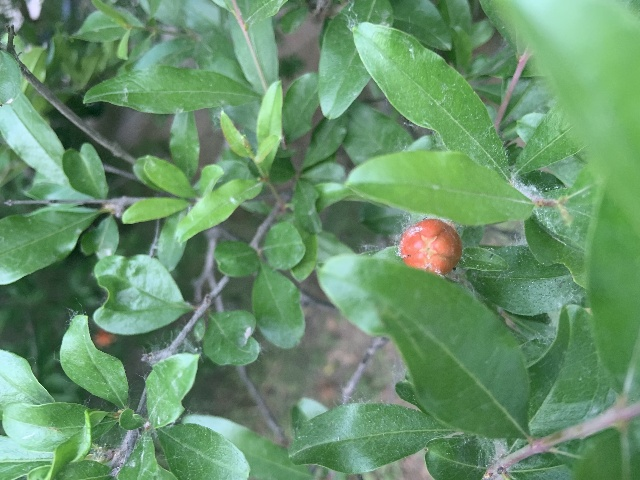bud: (399, 218, 461, 276)
